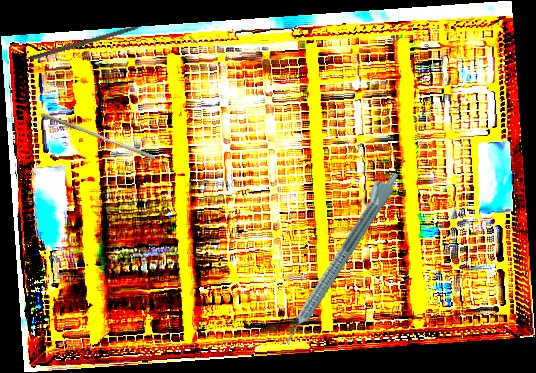Handpiece: (273, 165, 403, 348)
Hook Surgical: (29, 18, 160, 62)
Pusher: (38, 112, 158, 161)
